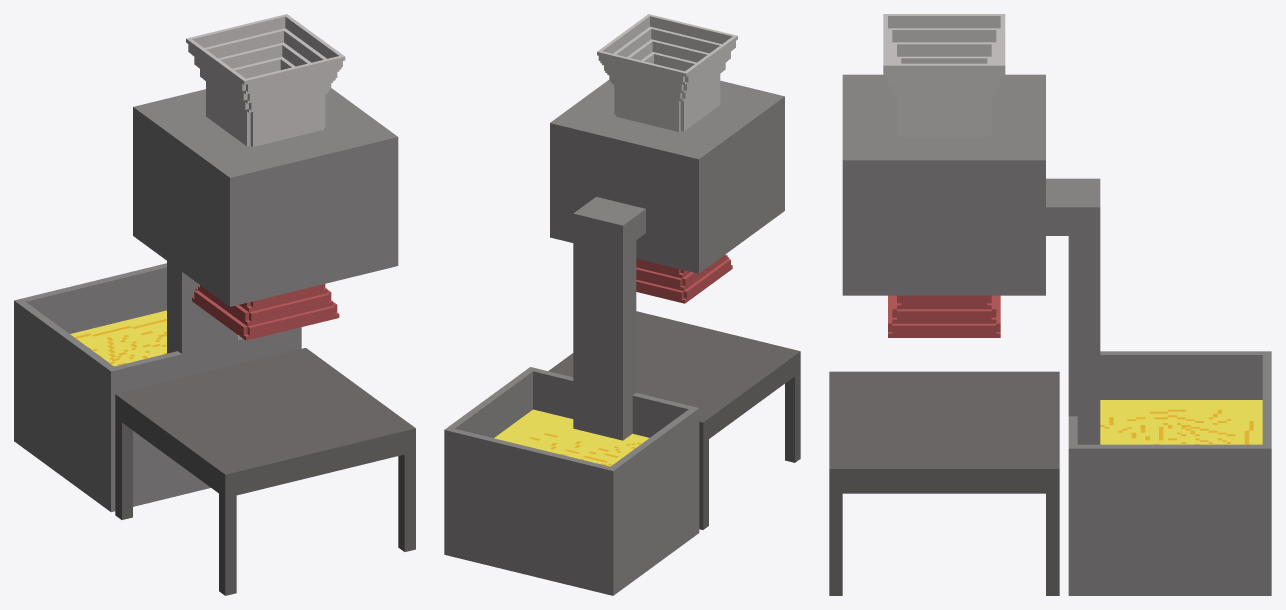
Rendered from Stone_machine.obj.
3 renders of one model, left to right at view 1: azimuth 30°, elevation 25°; view 2: azimuth 150°, elevation 25°; view 3: azimuth 270°, elevation 25°, orthographic. The views are drawn at different scales.
Bounding box in the file's own units: 5.1 × 12.4 × 9.8.
1 material, 1 textured.
